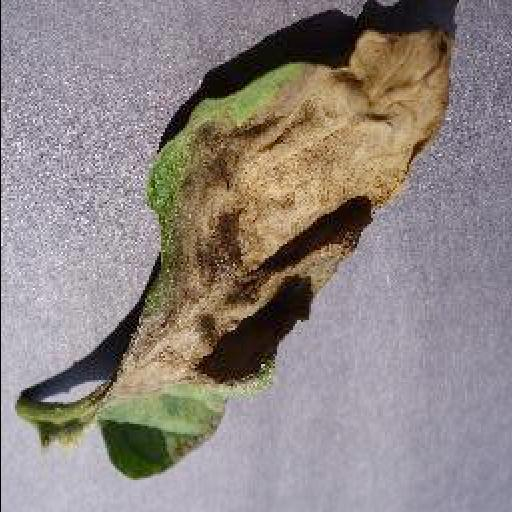disease_tomato: (92, 19, 460, 485)
